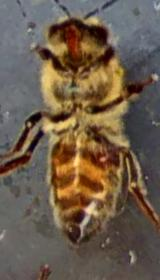varroa_mite: (86, 124, 124, 179)
